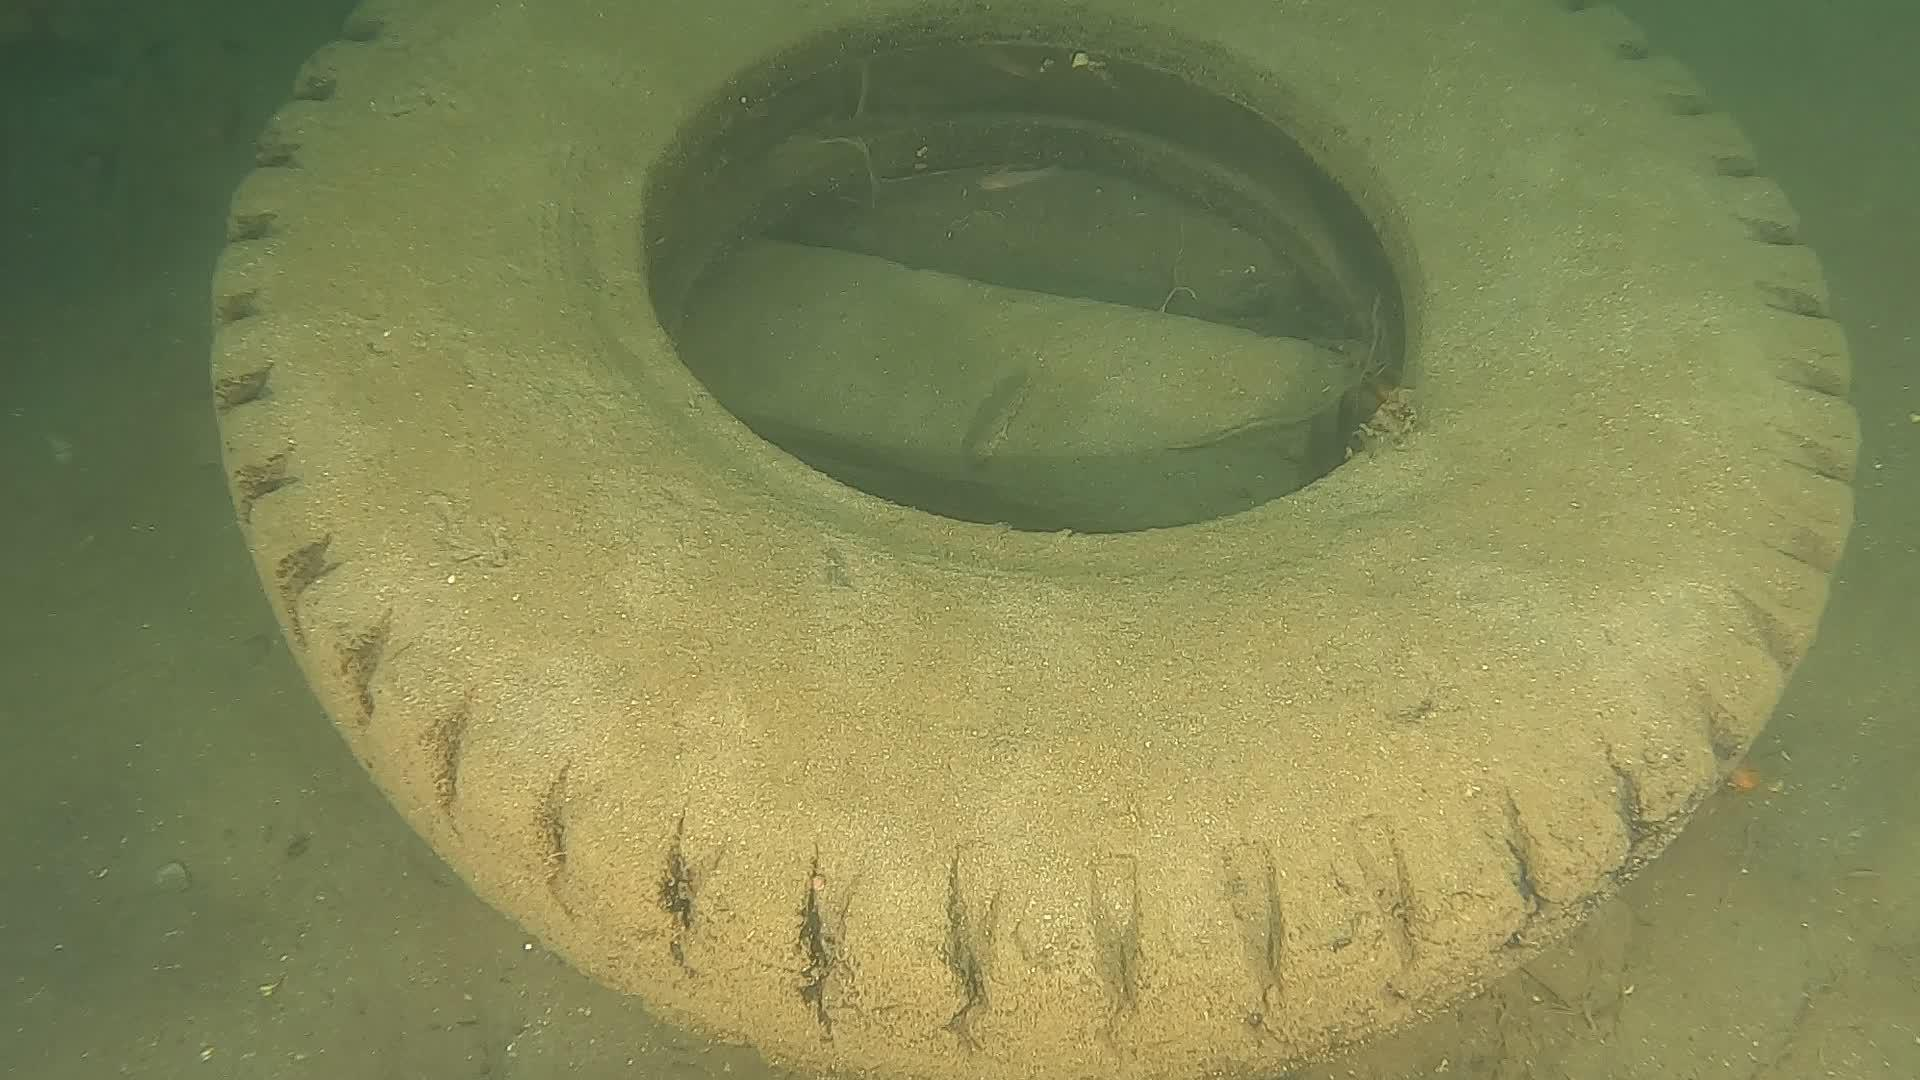tire: (204, 0, 1857, 1080)
